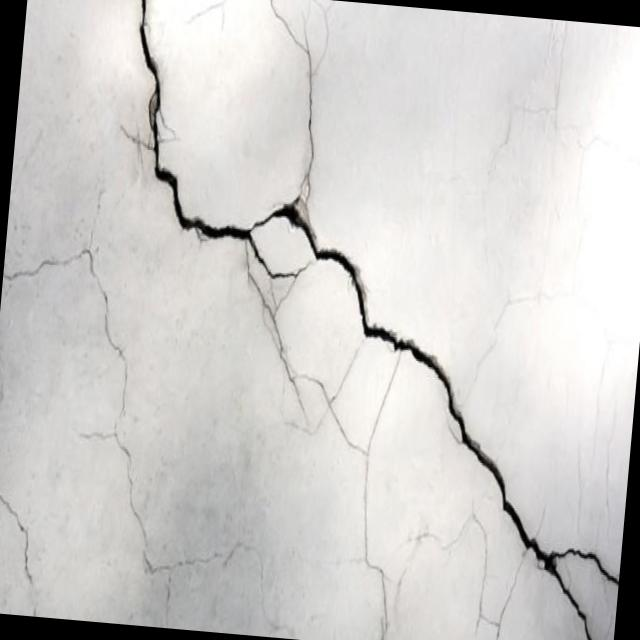crack: (137, 0, 617, 640)
